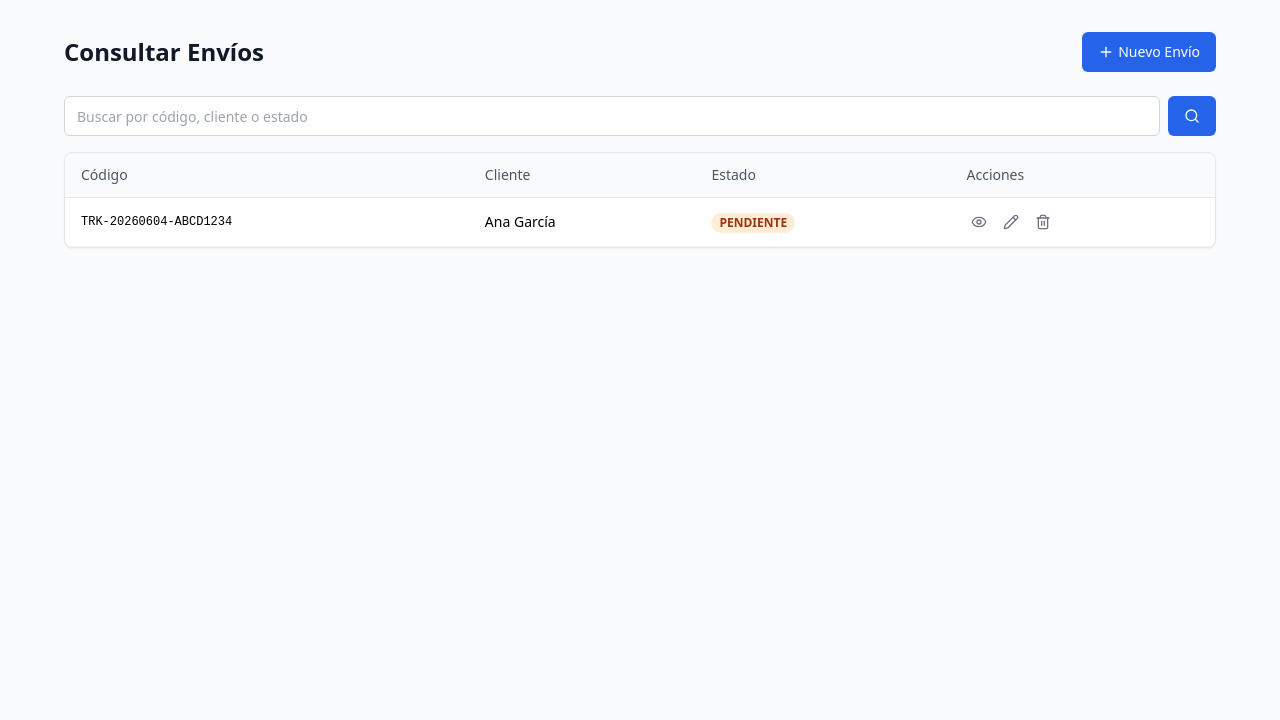
Test: ConsultarEnvios component › R31 — debe mostrar AlertDialog de confirmación al hacer clic en eliminar
Click the button named "eliminar envío".
click(1042, 222)  # box [1030, 210, 1054, 234]
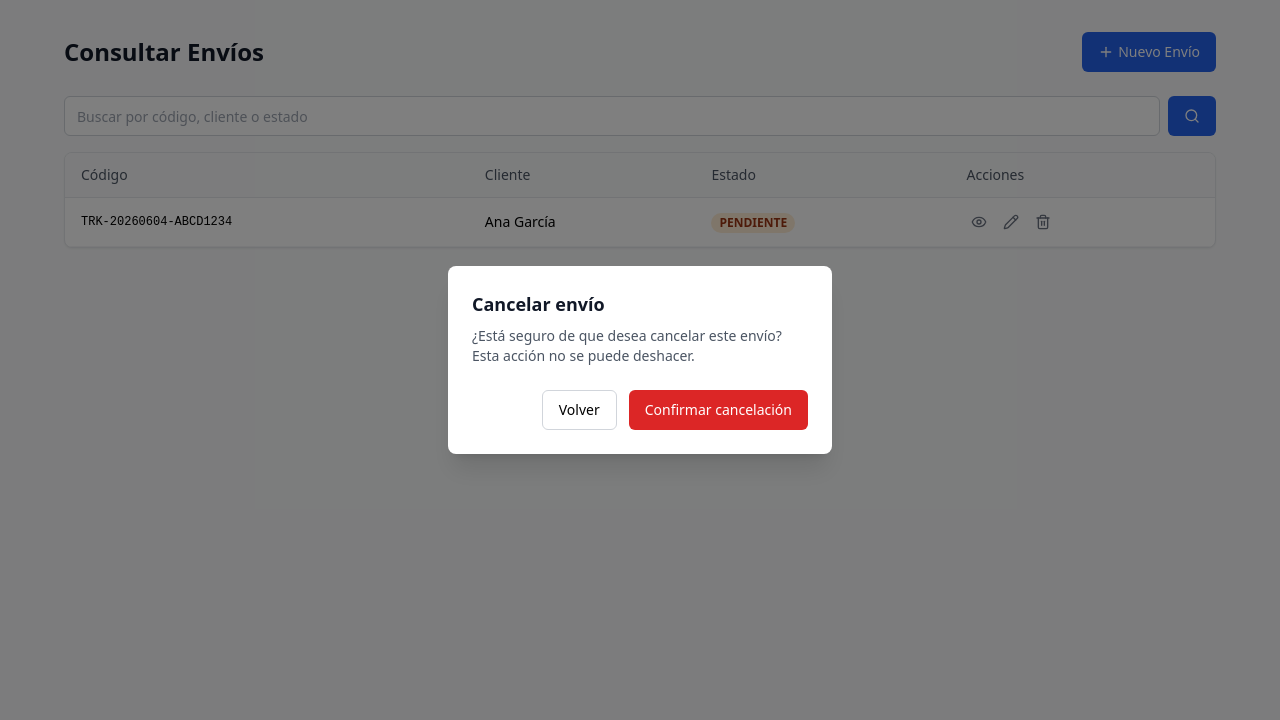
Expected: the dialog "Cancelar envío" is shown
Expected: the text "Está seguro" is shown, [472, 326, 782, 365]
